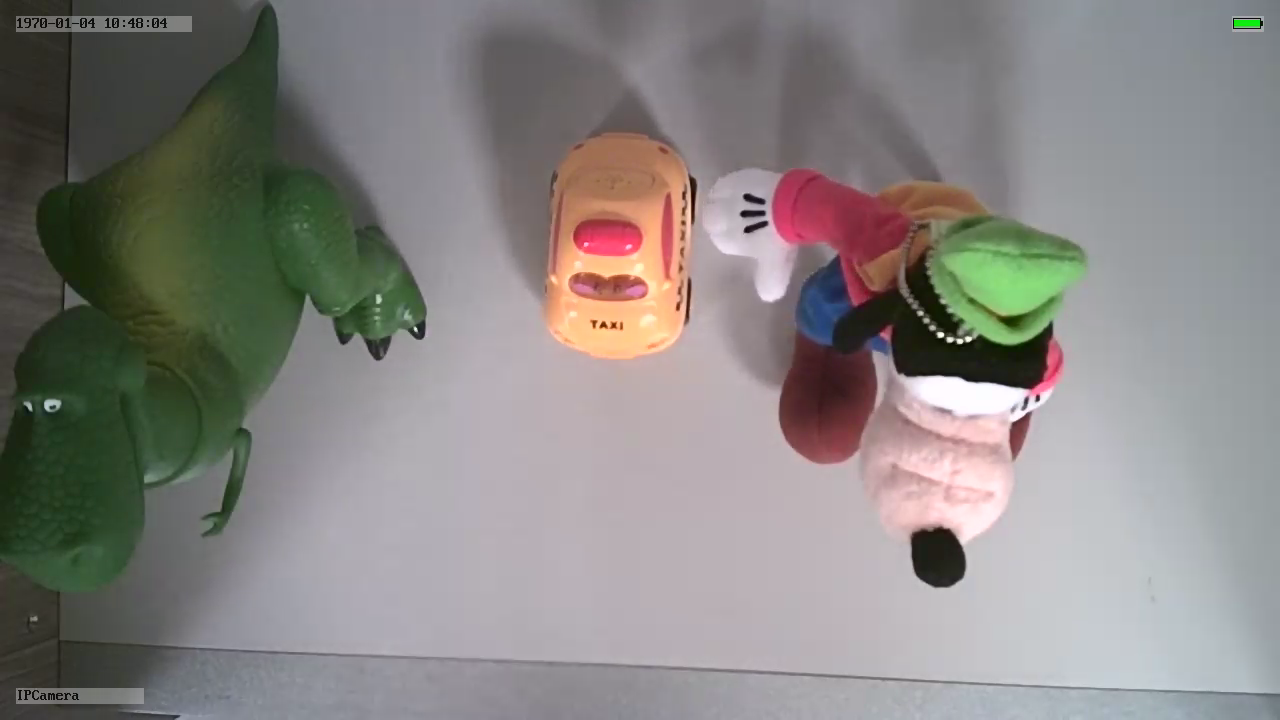goofy: (701, 164, 1097, 596)
